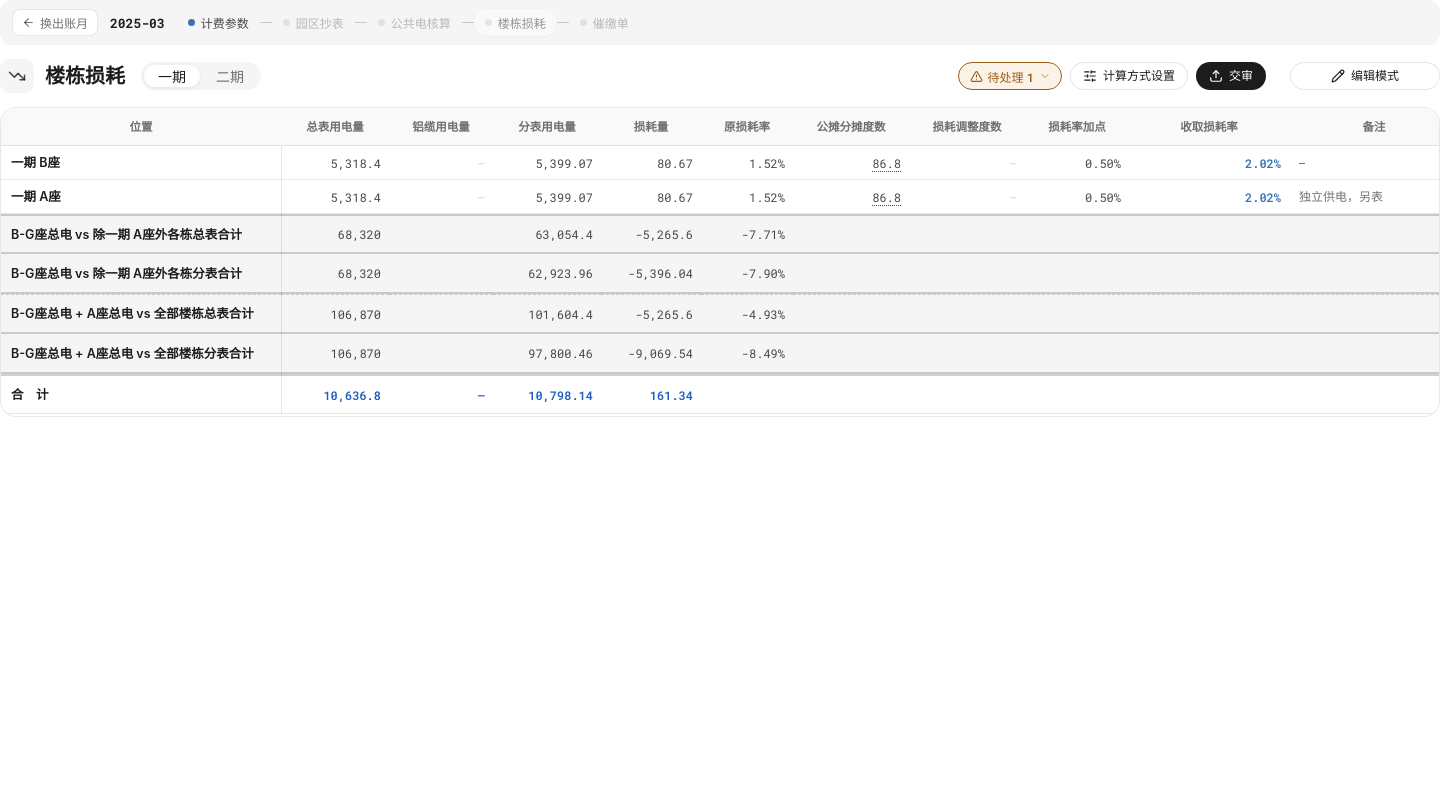
Test: 楼栋损耗 · 屏上的字 › ❗只有抄表改过 → 主语说抄表,不说计费参数
Step 1. Click the button with class "fac" → (1010, 76), box 958,62 -> 1062,90
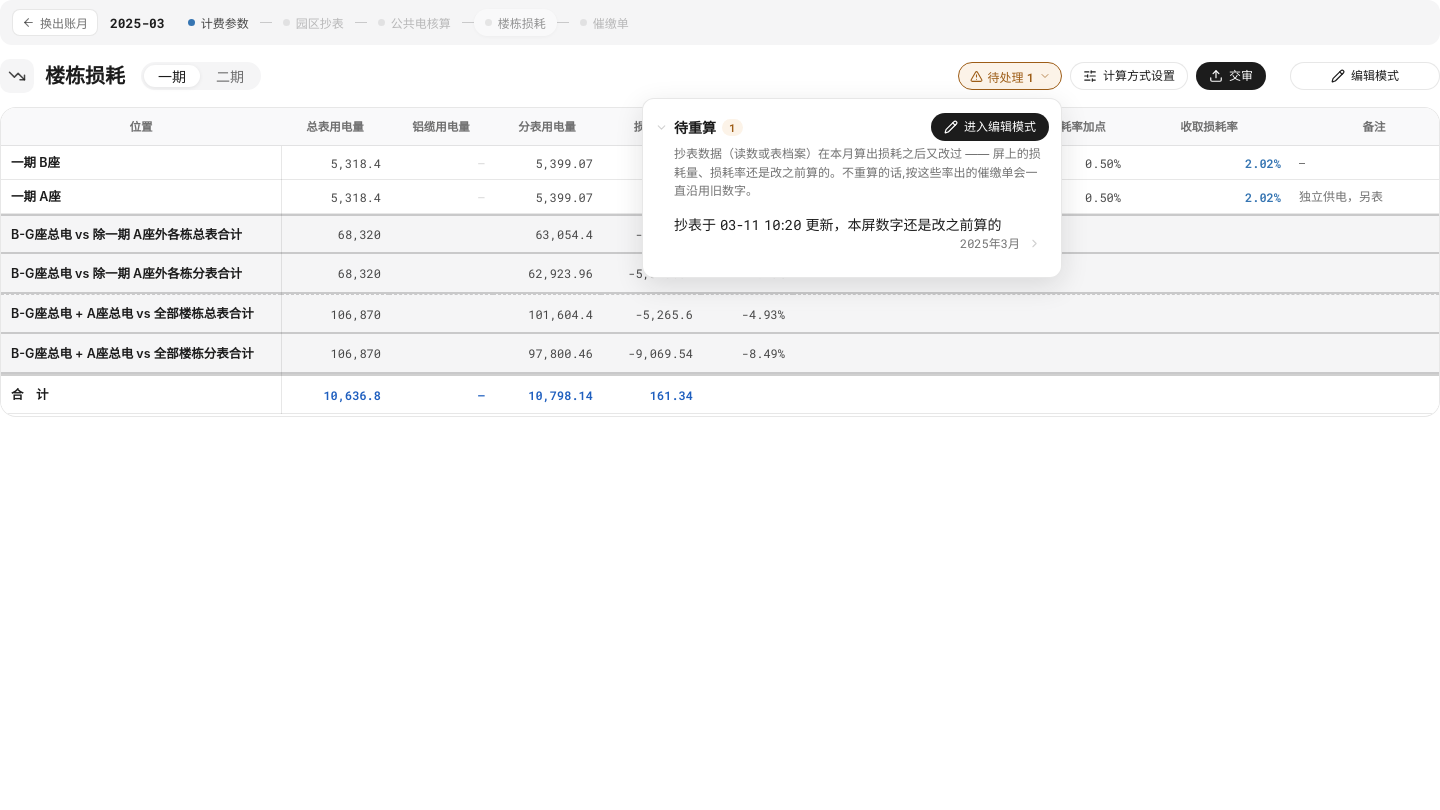
Check: the text "抄表数据（读数或表档案）在本月算出损耗之后又改过" is shown, box 674,146 -> 1041,198
Check: the text "抄表于 03-11 10:20 更新" is shown, box 674,216 -> 1002,233
